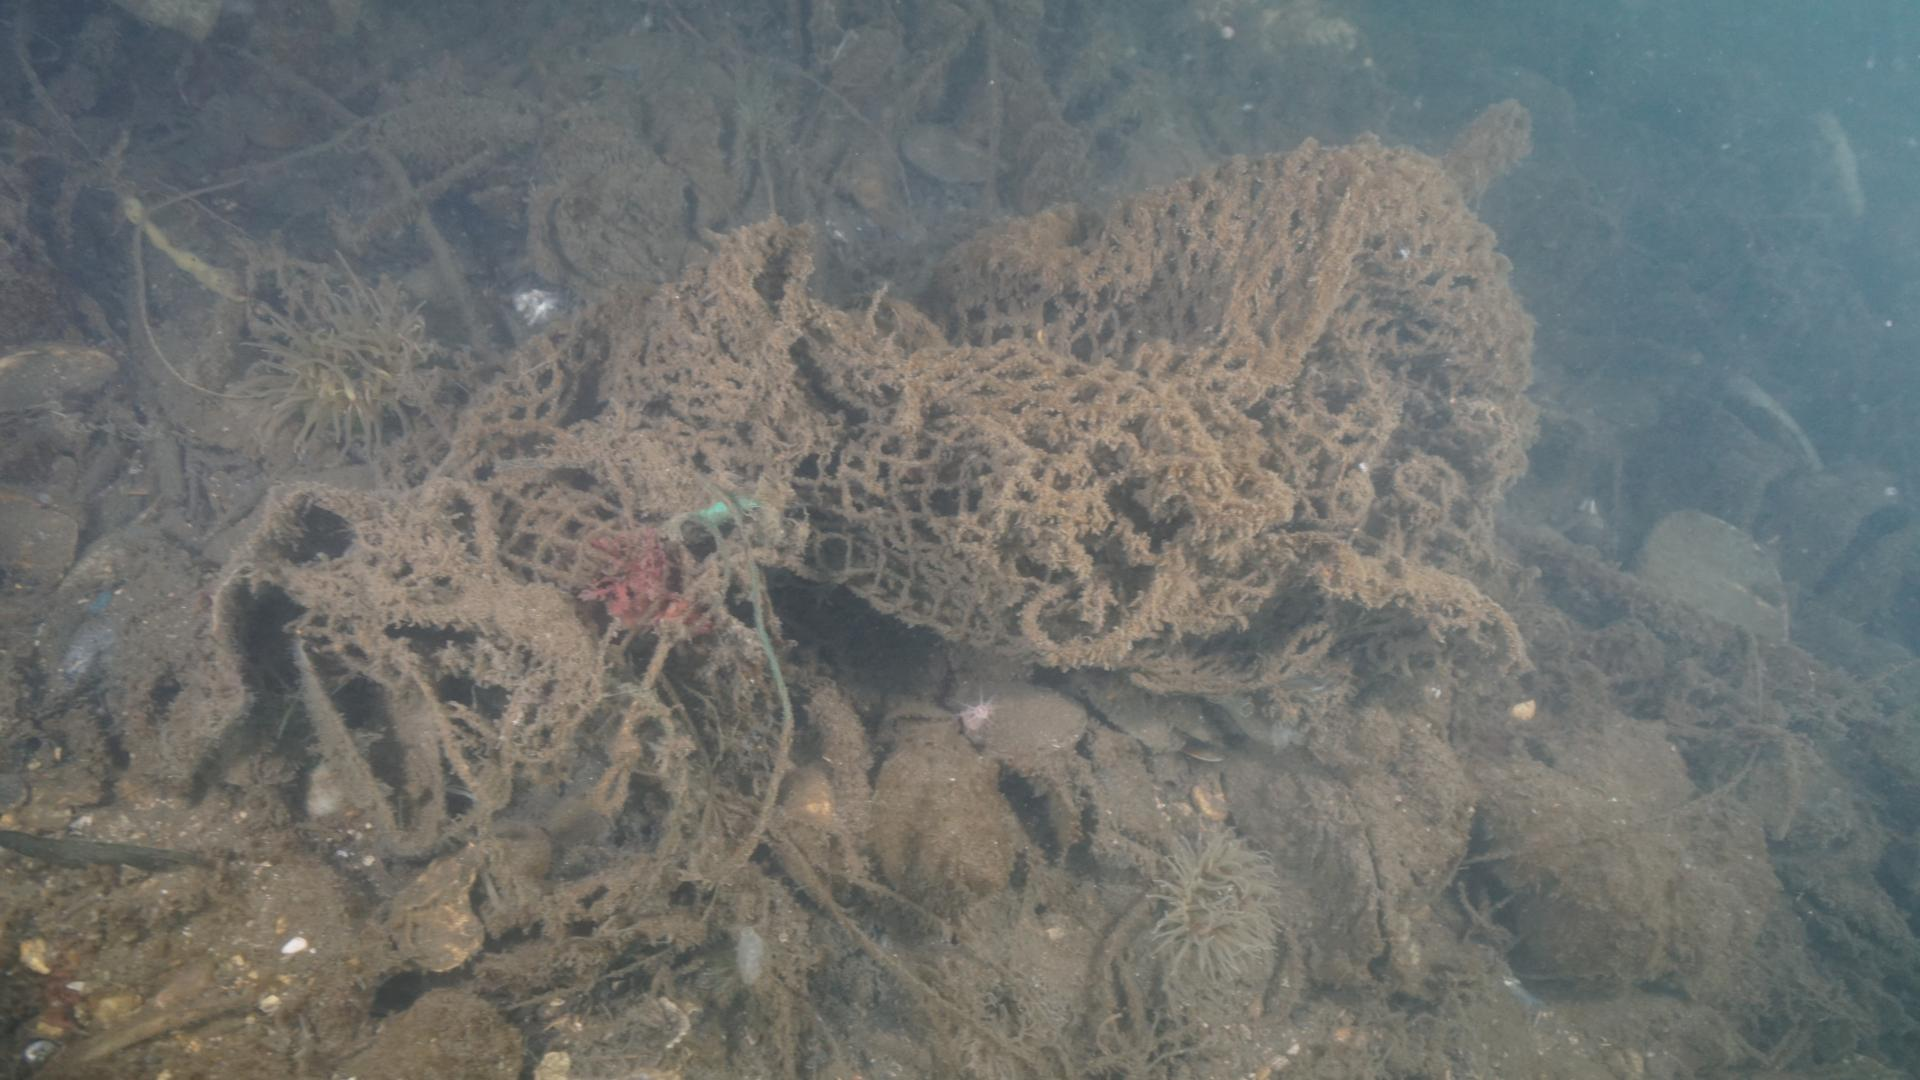fish net: (483, 136, 1538, 864)
